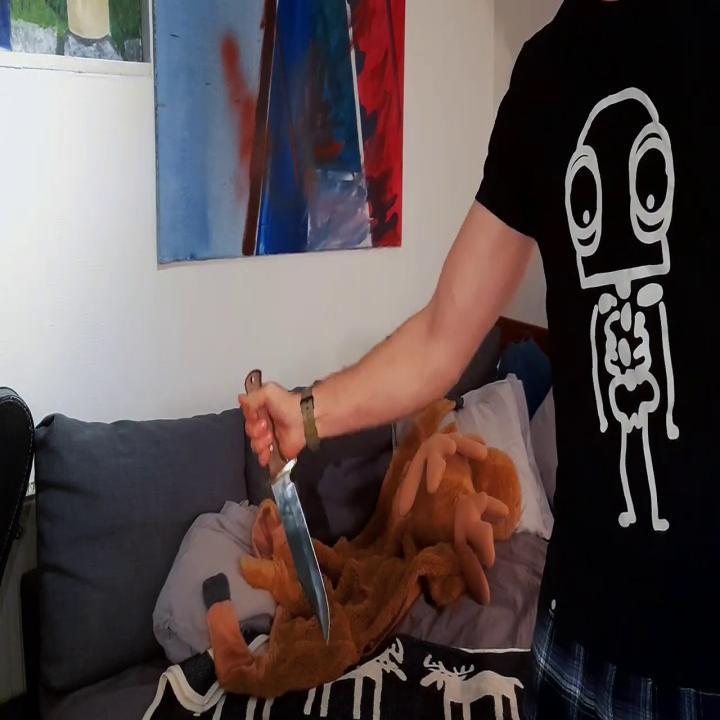knife: (243, 363, 334, 652)
